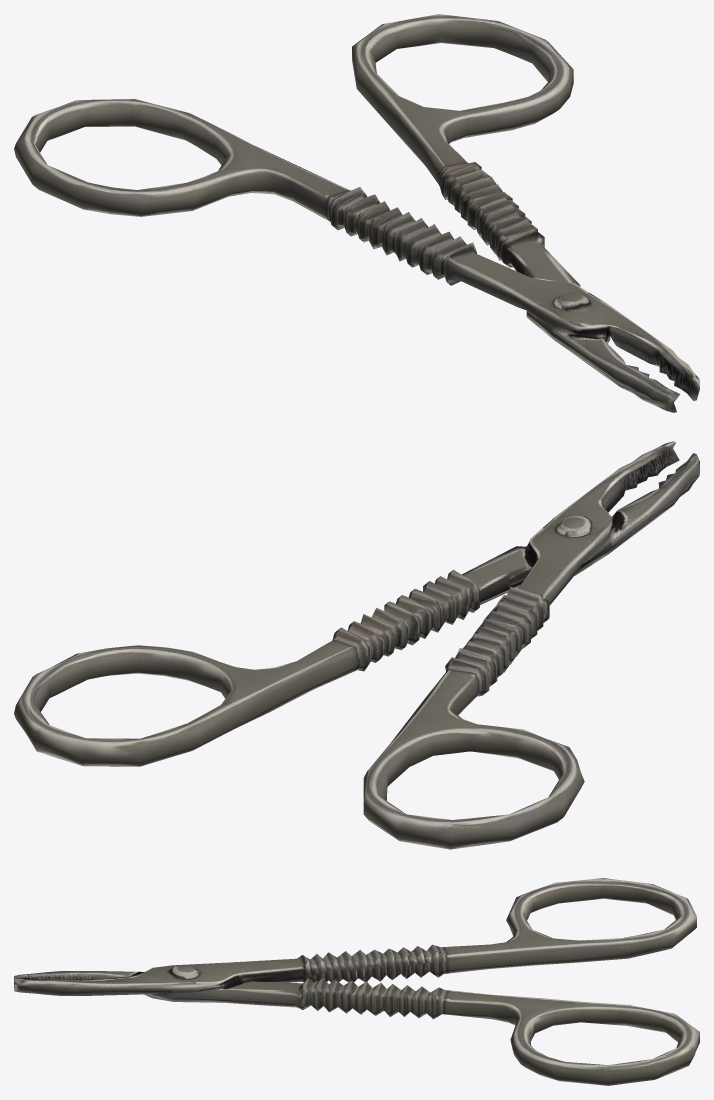
The model's file is mg_tool1.glb.
The picture shows the model from 3 angles, top to bottom: view 1: azimuth 30°, elevation 25°; view 2: azimuth 150°, elevation 25°; view 3: azimuth 270°, elevation 25°; orthographic projection. The views are drawn at different scales.
Parts seen in each view (by area): view 1: Delivery_24_SM_mg_tool_01_0; view 2: Delivery_24_SM_mg_tool_01_0; view 3: Delivery_24_SM_mg_tool_01_0.
Part boxes in pixels (x1,y1,x2,y2): Delivery_24_SM_mg_tool_01_0: (14, 14, 699, 412); Delivery_24_SM_mg_tool_01_0: (14, 441, 699, 849); Delivery_24_SM_mg_tool_01_0: (14, 878, 699, 1085).
Size of the model in its own units: 0.1488 by 0.0104 by 0.2238.
1 material, 1 textured.
